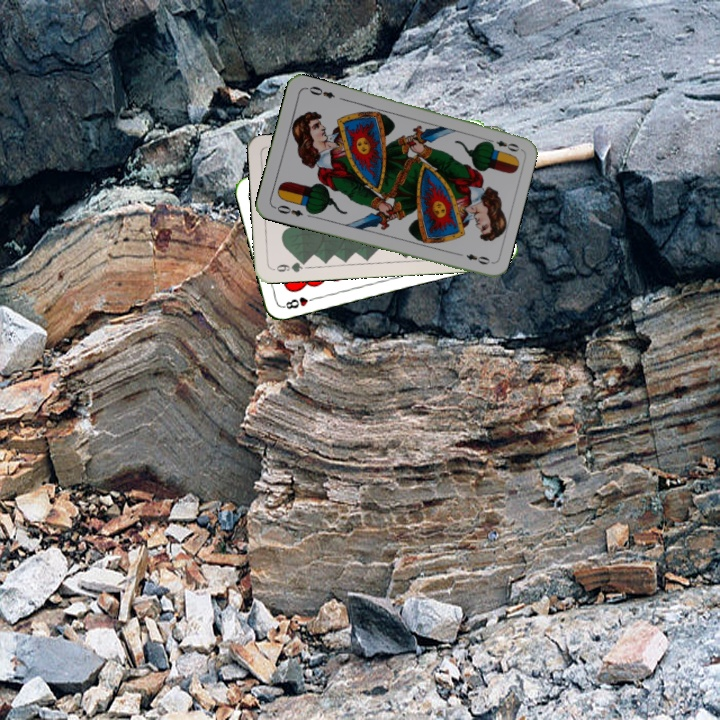EO: (483, 135, 522, 154), (270, 201, 305, 219)
G9: (269, 257, 309, 275)
H8: (279, 293, 319, 312)
